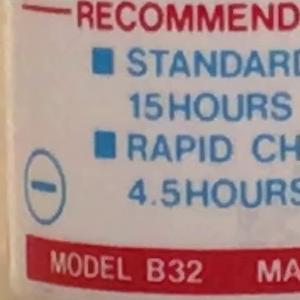keyword: (94, 253, 187, 283)
